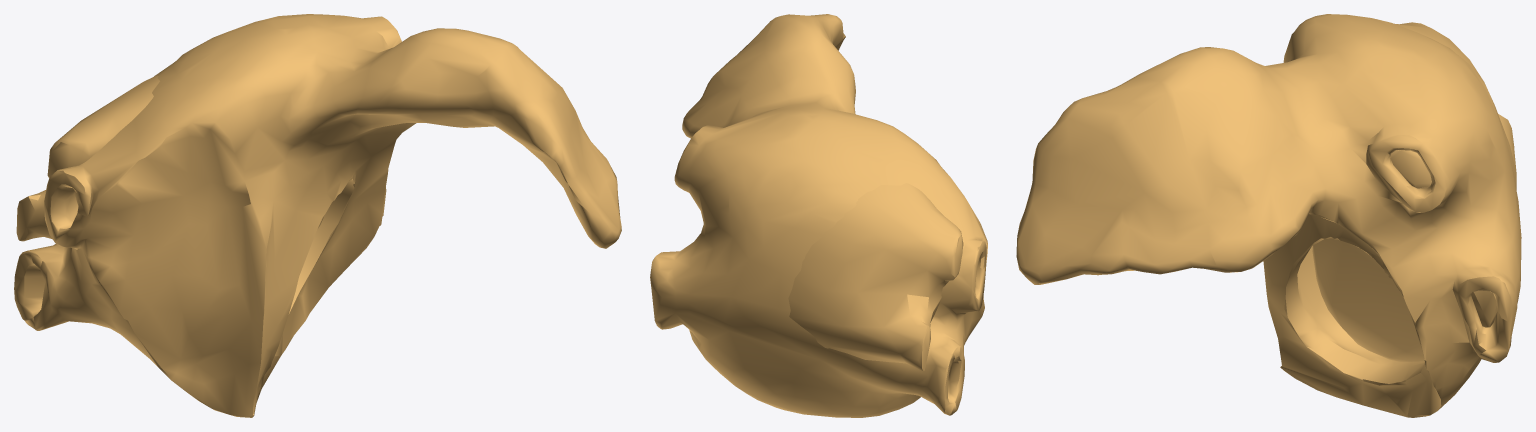
The model's file is atrio-esquerdo.glb.
3 renders of one model, left to right at view 1: azimuth 30°, elevation 25°; view 2: azimuth 150°, elevation 25°; view 3: azimuth 270°, elevation 25°, orthographic. The views are drawn at different scales.
Parts seen in each view (by area): view 1: atrio-esquerdo; view 2: atrio-esquerdo; view 3: atrio-esquerdo.
Part boxes in pixels (<box>): atrio-esquerdo: <box>14,14,621,417</box>; atrio-esquerdo: <box>650,14,987,417</box>; atrio-esquerdo: <box>1016,14,1521,417</box>.
Size of the model in its own units: 0.0859 by 0.0728 by 0.0808.
